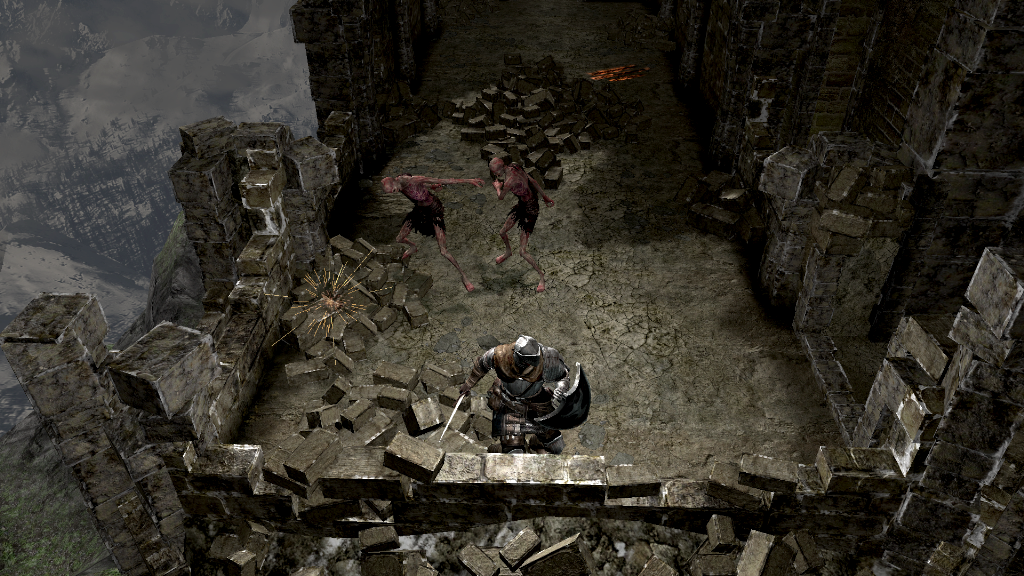hollow: (377, 174, 486, 293), (489, 156, 556, 293)
player: (441, 335, 595, 456)
